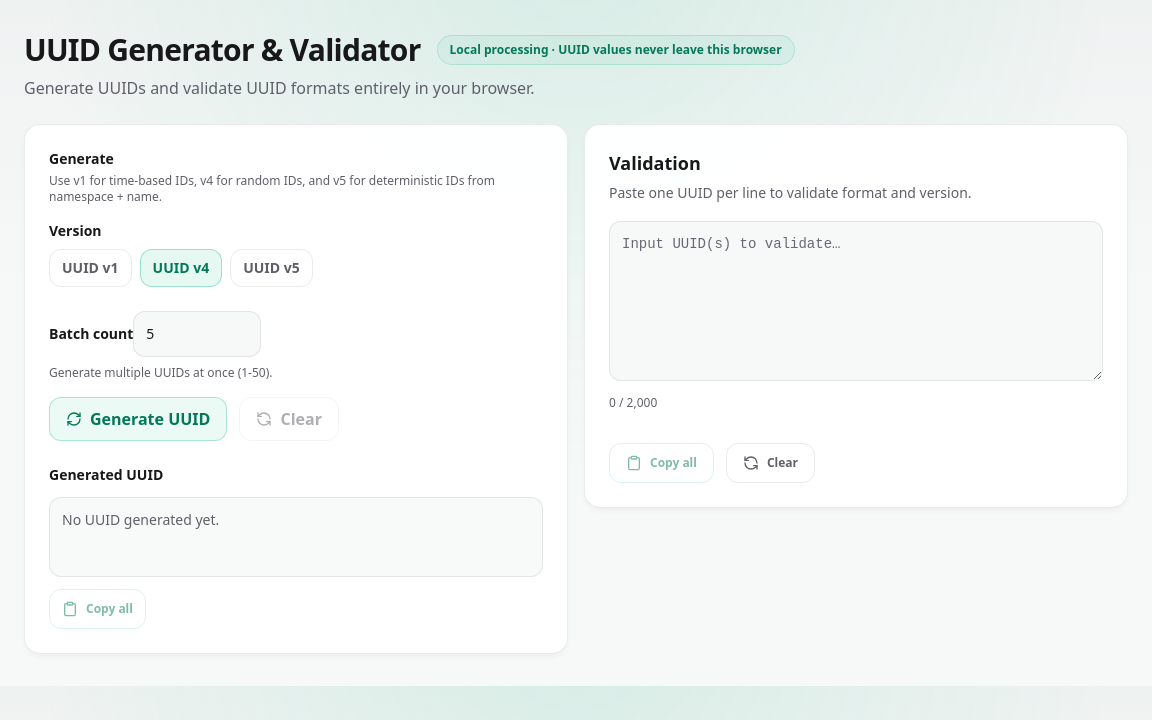
Test case: UuidToolClient › supports v1 generation path
The image size is (1152, 720).
Click the radio button labelled "UUID v1" at {"x": 90, "y": 268}, box top-left (49, 249), bottom-right (132, 287)
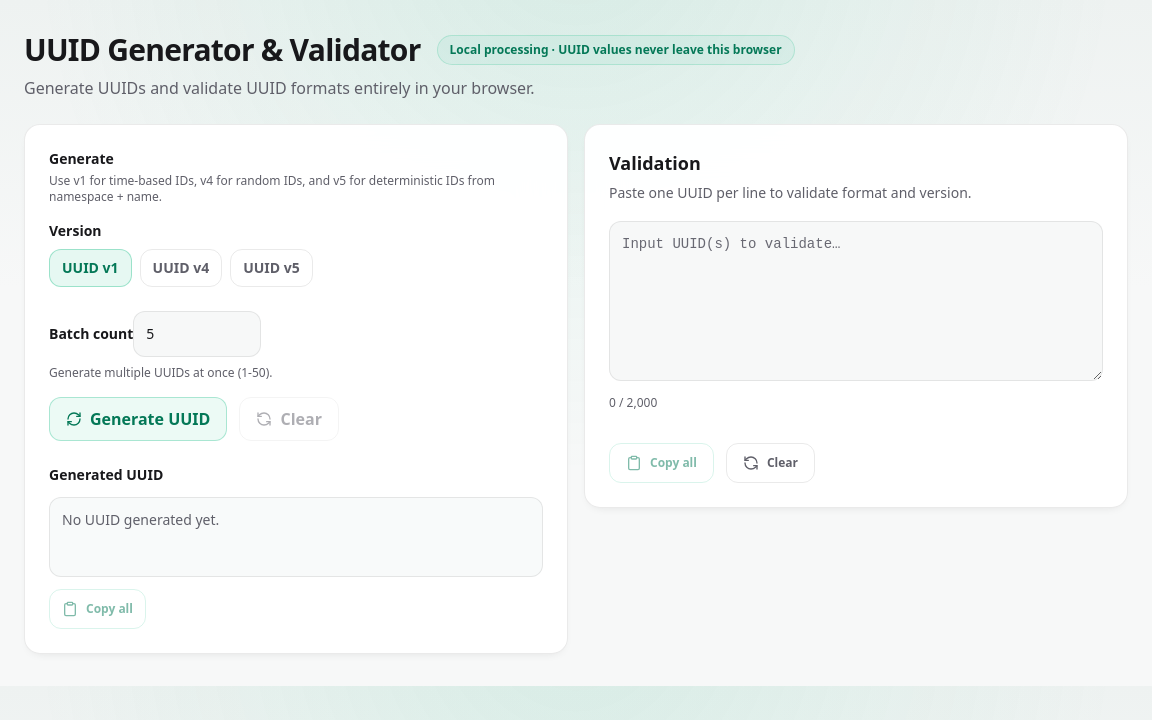
Replace the text in the number field labelled "Batch count" with "1" at {"x": 197, "y": 334}, box top-left (133, 311), bottom-right (261, 357)
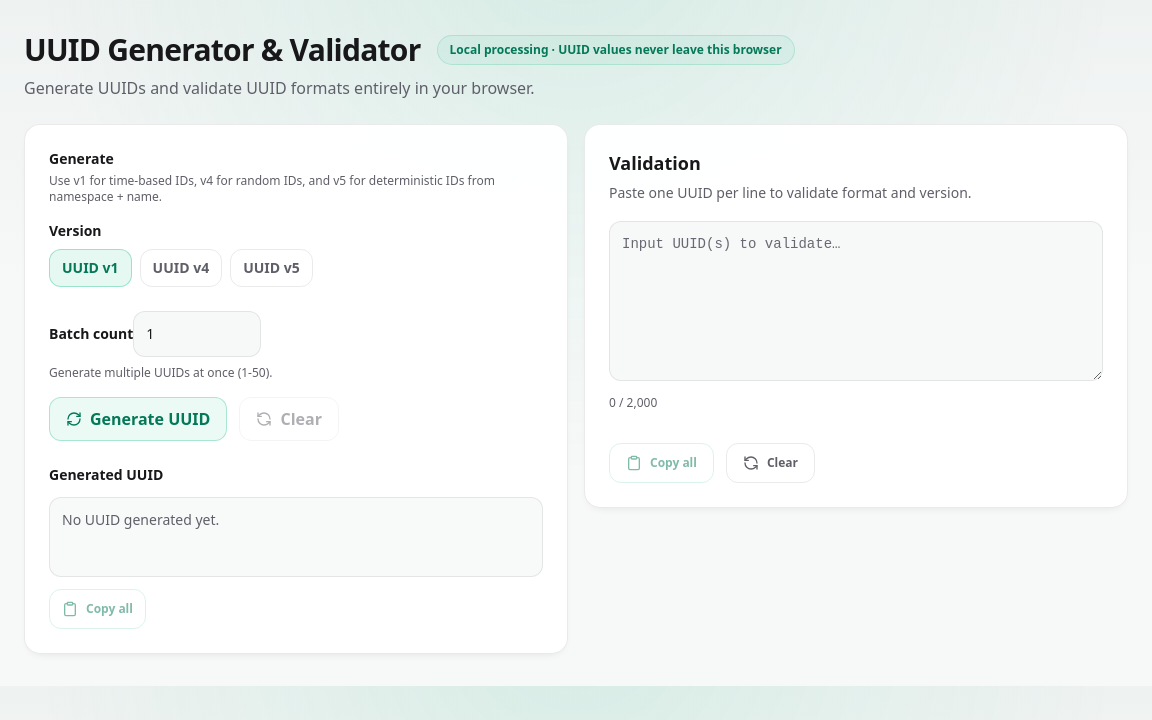
Click the button "Generate UUID" at {"x": 138, "y": 419}, box top-left (49, 397), bottom-right (227, 441)
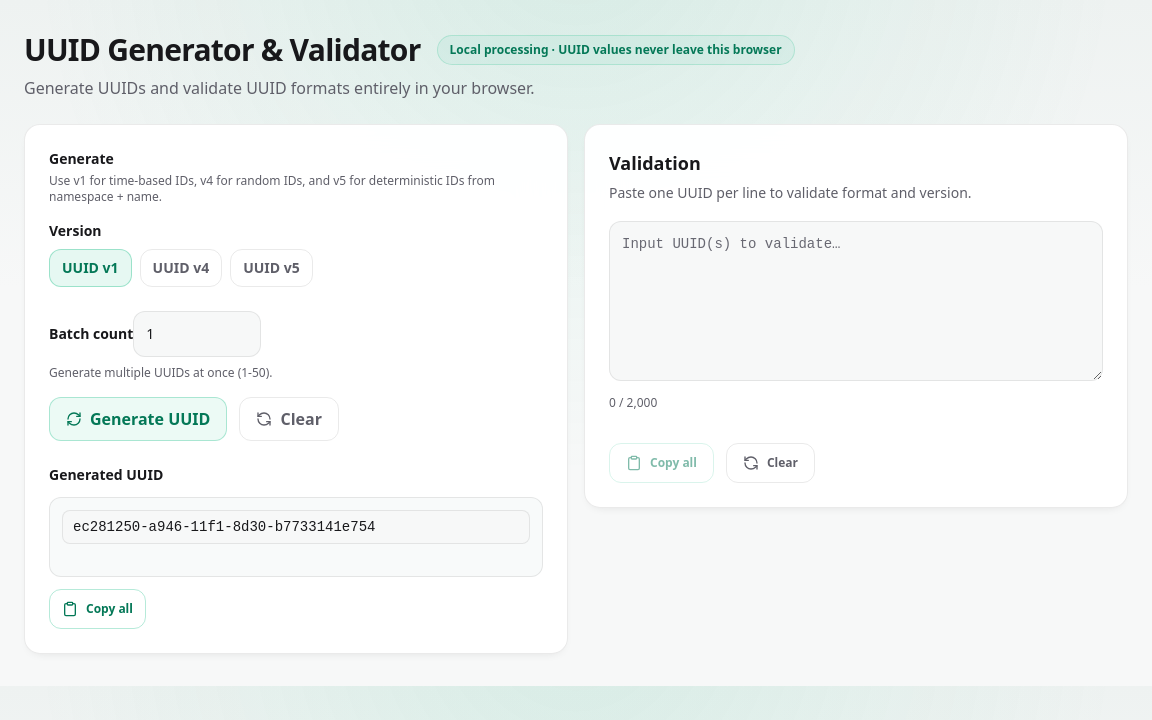
Now the number of list items is 1, box top-left (62, 510), bottom-right (530, 544)
Now the list item reads "ec281250-a946-11f1-8d30-b7733141e754", box top-left (73, 519), bottom-right (376, 535)
